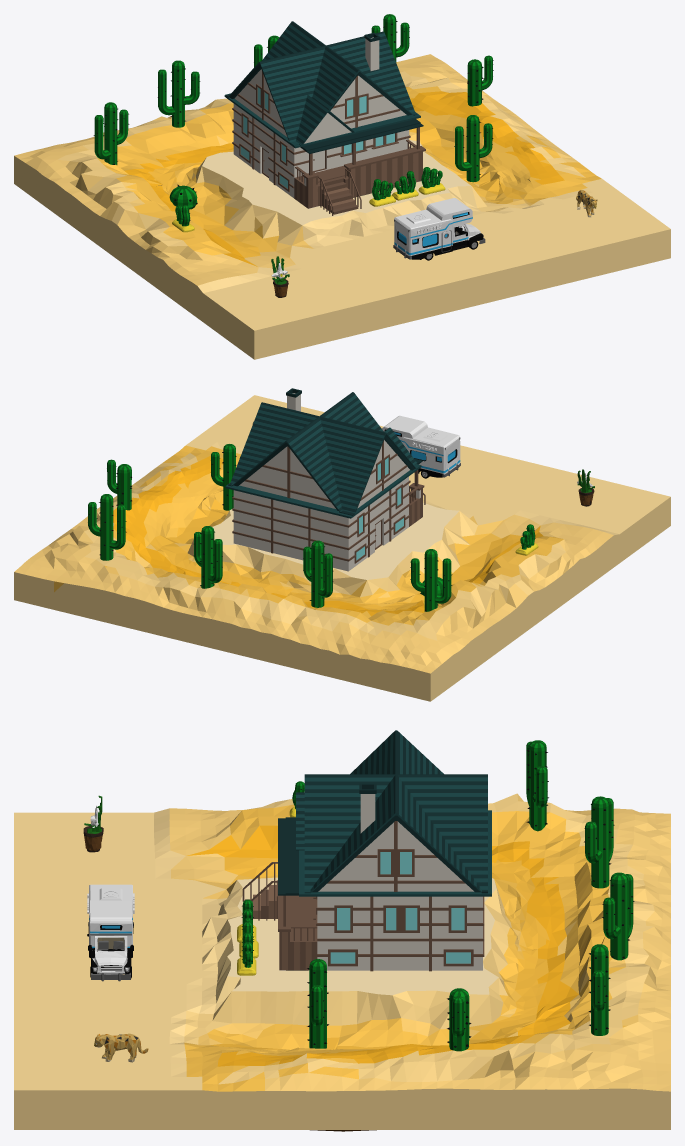
3 views of the same model, one above another, from view 1: azimuth 30°, elevation 25°; view 2: azimuth 150°, elevation 25°; view 3: azimuth 270°, elevation 25° (orthographic). The views are drawn at different scales.
Visible parts, largest first — view 1: Cube.001, Cube.793, VEHICLES_CAMPER, Cylinder.037, Cylinder.044, Cylinder.045, Cylinder.038, Cylinder.042, Cylinder.039, Cylinder.041, OBJRANDOM_MONJA BLANCA, Sphere.023 (+1 smaller); view 2: Cube.001, Cube.793, VEHICLES_CAMPER, Cylinder.042, Cylinder.045, Cylinder.044, Cylinder.043, Cylinder.037, Cylinder.038; view 3: Cube.001, Cube.793, VEHICLES_CAMPER, Cylinder.043, Cylinder.044, Cylinder.045, Cylinder.042, Cylinder.037, Cylinder.038, ANIMAL_JAGUAR, OBJRANDOM_MONJA BLANCA, Cylinder.041.
Boxes of the visible parts, box(x1,y1,x2,y2) form: Cube.001: box(14, 54, 670, 359); Cube.793: box(224, 21, 425, 215); VEHICLES_CAMPER: box(393, 198, 485, 260); Cylinder.037: box(454, 115, 493, 182); Cylinder.044: box(157, 60, 200, 127); Cylinder.045: box(93, 102, 129, 164); Cylinder.038: box(467, 55, 493, 106); Cylinder.042: box(371, 14, 409, 62); Cylinder.039: box(369, 179, 395, 206); Cylinder.041: box(418, 167, 445, 194); OBJRANDOM_MONJA BLANCA: box(271, 256, 289, 297); Sphere.023: box(169, 184, 197, 209); Cube.001: box(14, 395, 670, 701); Cube.793: box(225, 388, 425, 571); VEHICLES_CAMPER: box(382, 415, 460, 478); Cylinder.042: box(88, 494, 126, 560); Cylinder.045: box(410, 549, 452, 611); Cylinder.044: box(303, 540, 333, 607); Cylinder.043: box(193, 526, 222, 588); Cylinder.037: box(211, 444, 240, 510); Cylinder.038: box(107, 459, 131, 510); Cube.001: box(14, 793, 670, 1129); Cube.793: box(242, 730, 491, 971); VEHICLES_CAMPER: box(87, 884, 134, 981); Cylinder.043: box(602, 872, 634, 960); Cylinder.044: box(584, 796, 614, 888); Cylinder.045: box(526, 740, 548, 831); Cylinder.042: box(588, 944, 610, 1035); Cylinder.037: box(307, 959, 328, 1048); Cylinder.038: box(447, 988, 471, 1051); ANIMAL_JAGUAR: box(94, 1033, 148, 1062); OBJRANDOM_MONJA BLANCA: box(83, 795, 103, 852); Cylinder.041: box(237, 932, 256, 975).
Bounding box in the file's own units: 4002 × 1693 × 4001.
33 materials, 3 textured.
